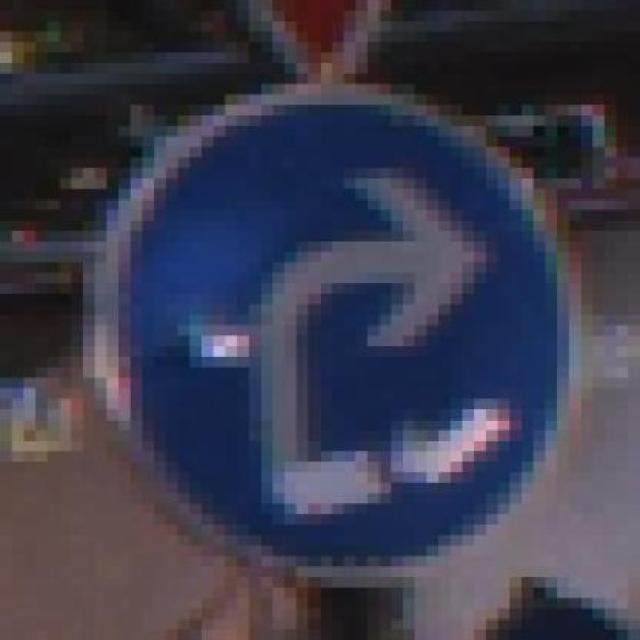Turn right ahead: (82, 73, 593, 578)
